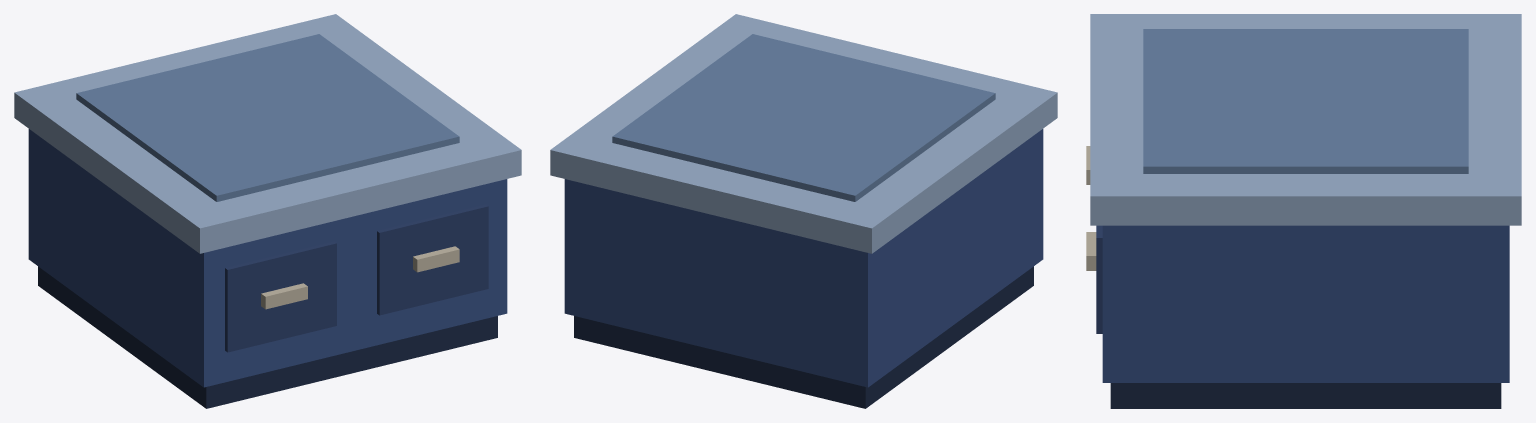
File: k_frost_wash.glb
3 views of the same model, side by side, from view 1: azimuth 30°, elevation 25°; view 2: azimuth 150°, elevation 25°; view 3: azimuth 270°, elevation 25° (orthographic). The views are drawn at different scales.
Parts seen in each view (by area): view 1: piece; view 2: piece; view 3: piece.
Part boxes in pixels (x1,y1,x2,y2): piece: (14,14,521,408); piece: (550,14,1057,408); piece: (1086,14,1521,408).
Bounding box in the file's own units: 1.06 × 0.62 × 1.07.
